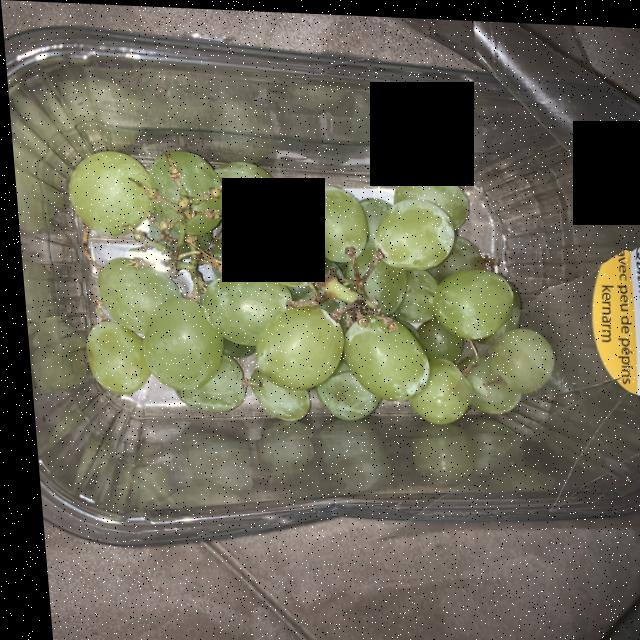grapes: (68, 154, 541, 414)
